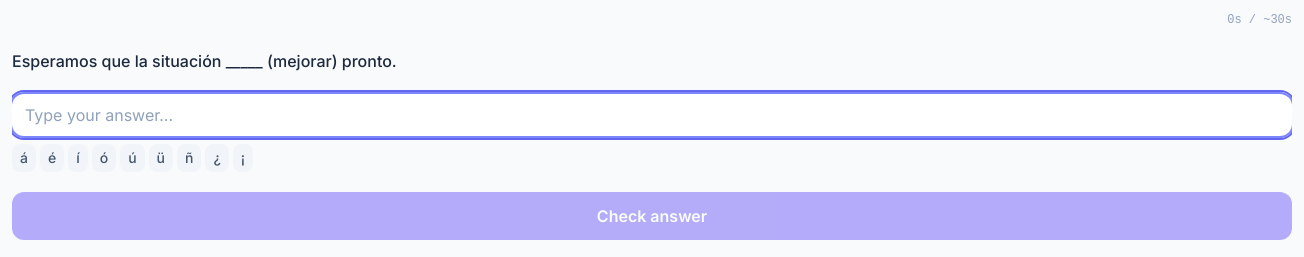
Test: ExerciseRenderer — text input (cloze) › Check button is disabled until user types
Expected: the button "Check answer" is disabled, x1=12 y1=192 x2=1292 y2=240
Type "mejore" into the field with placeholder "Type your answer...". click: (652, 115)
box: x1=12 y1=94 x2=1292 y2=136
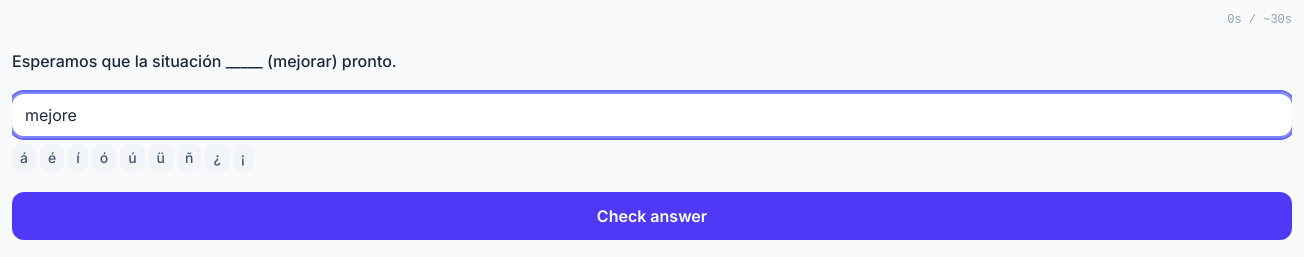
Expected: the button "Check answer" is enabled, x1=12 y1=192 x2=1292 y2=240
